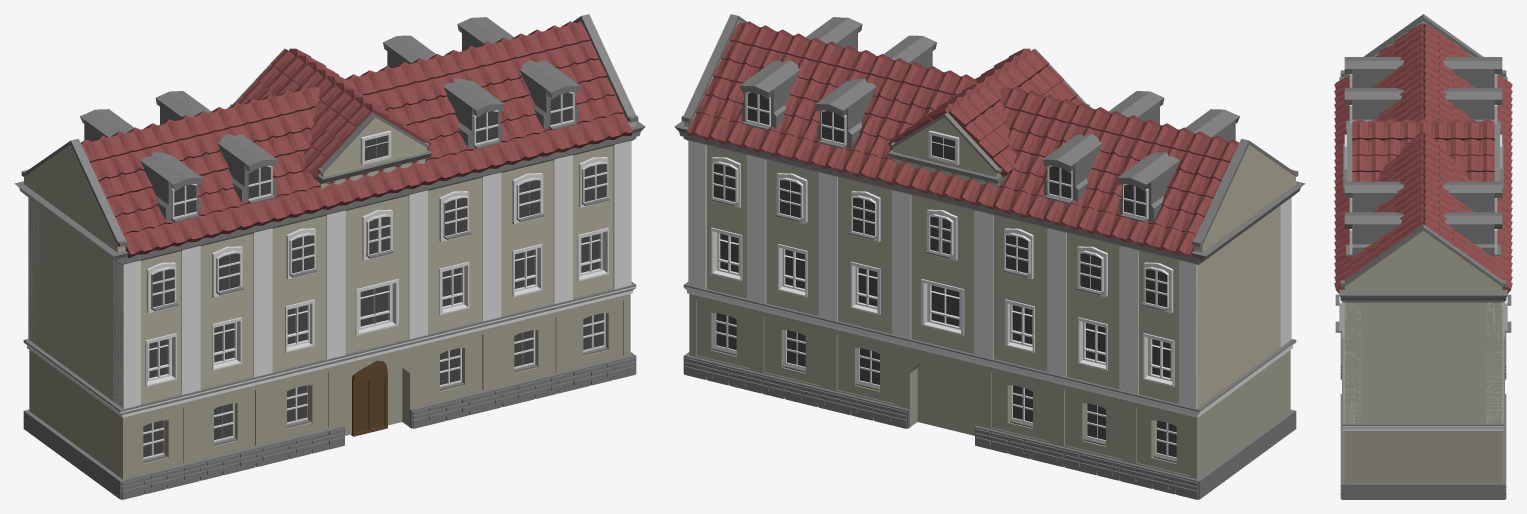
File: app-3.glb
3 renders of one model, left to right at view 1: azimuth 30°, elevation 25°; view 2: azimuth 150°, elevation 25°; view 3: azimuth 270°, elevation 25°, orthographic. The views are drawn at different scales.
Parts seen in each view (by area): view 1: Building1_Large; view 2: Building1_Large; view 3: Building1_Large.
Part boxes in pixels (x1=…): Building1_Large: x1=14, y1=14, x2=645, y2=499; Building1_Large: x1=674, y1=14, x2=1305, y2=499; Building1_Large: x1=1334, y1=14, x2=1512, y2=499.
Size of the model in its own units: 8 by 4.68 by 2.76.
